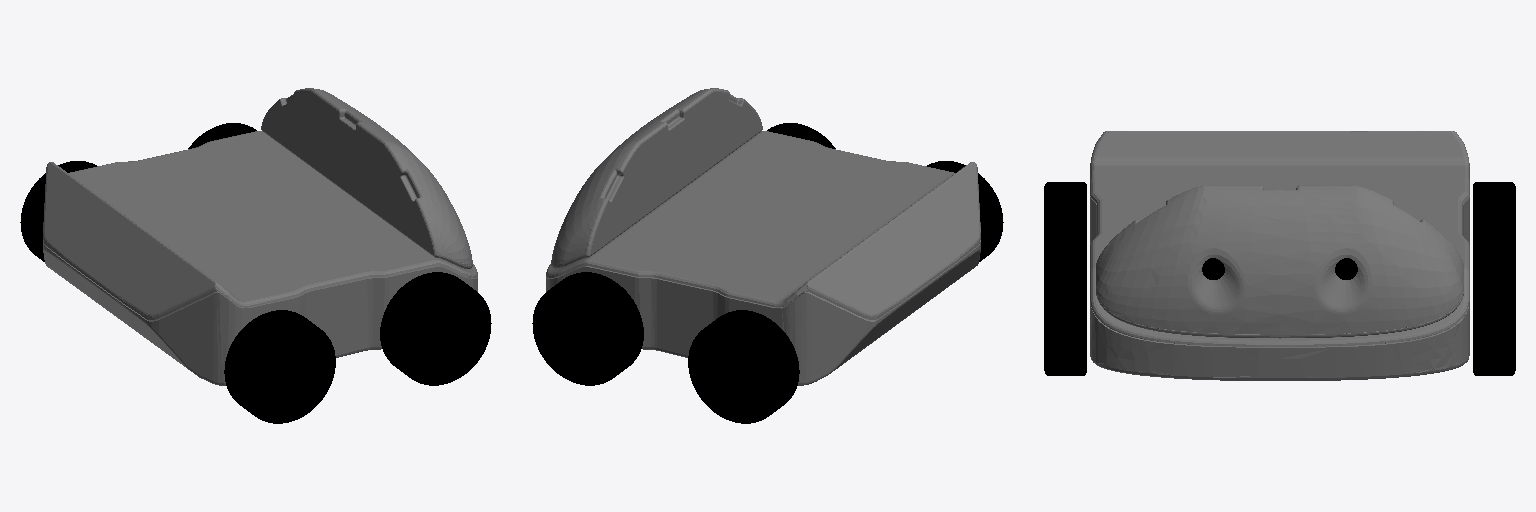
URDF robot description (up1):
<?xml version="1.0" ?>
<!-- =================================================================================== -->
<!-- |    This document was autogenerated by xacro from up1_left_arm.xacro             | -->
<!-- |    EDITING THIS FILE BY HAND IS NOT RECOMMENDED                                 | -->
<!-- =================================================================================== -->
<robot name="up1" xmlns:xacro="http://www.ros.org/wiki/xacro">
  <material name="black">
    <color rgba="0 0 0 1"/>
  </material>
  <material name="white">
    <color rgba="1 1 1 1"/>
  </material>
  <material name="red">
    <color rgba="1 0 0 1"/>
  </material>
  <material name="grey">
    <color rgba=".5 .5 .5 1"/>
  </material>
  <material name="green">
    <color rgba="0 1 0 1"/>
  </material>
  <material name="blue">
    <color rgba="0 0 1 1"/>
  </material>
  <material name="yellow">
    <color rgba="1 1 0 1"/>
  </material>
  <!-- ============================   Arm   ============================ -->
  <!-- ============================   Arm   ============================ -->
  <!-- ============================   Gripper   ============================ -->
  <!-- ============================   Gripper   ============================ -->
  <!-- ============================   Arm Module   ============================ -->
  <!-- ============================   Wheel   ============================ -->
  <!-- ============================   Base Module   ============================ -->
  <!-- ============================   Base Module   ============================ -->
  <!-- ============================   Camera   ============================ -->
  <!-- ============================   IO Module   ============================ -->
  <!-- base_footprint is a fictitious link(frame) that is on the ground right below base_link origin,
         navigation stack dedpends on this frame -->
  <link name="up1_footprint">
    <visual>
      <origin rpy="0 0 0" xyz="0 0 0"/>
      <geometry>
        <box size="0.01 0.01 0.01"/>
      </geometry>
      <material name="white"/>
    </visual>
    <collision>
      <!-- represent base collision with a simple rectangular model, positioned by base_size_z s.t. top
             surface of the collision box matches the top surface of the PR2 base -->
      <origin rpy="0 0 0" xyz="0 0 0.071"/>
      <geometry>
        <box size="0.001 0.001 0.001"/>
      </geometry>
    </collision>
  </link>
  <joint name="up1_footprint_joint" type="fixed">
    <origin rpy="0 0 0" xyz="0 0 0.051"/>
    <child link="base_link"/>
    <parent link="up1_footprint"/>
  </joint>
  <!-- Base Link -->
  <link name="base_link">
    <visual>
      <geometry>
        <mesh filename="package://up1_description/meshes/base.stl" scale="0.001 0.001 0.001"/>
      </geometry>
      <material name="grey"/>
    </visual>
    <collision>
      <geometry>
        <mesh filename="package://up1_description/meshes/base.stl" scale="0.001 0.001 0.001"/>
      </geometry>
    </collision>
    <inertial>
      <mass value="0.30813"/>
      <inertia ixx="0.00175941073" ixy="0.00000172768" ixz="-0.00008279443" iyy="0.00172024238" iyz="0.00000045789" izz="0.00311278092"/>
    </inertial>
  </link>
  <gazebo>
    <plugin filename="libgazebo_ros_skid_steer_drive.so" name="skid_steer_drive_controller">
      <updateRate>100.0</updateRate>
      <robotNamespace/>
      <leftFrontJoint>base_to_left_front_wheel</leftFrontJoint>
      <rightFrontJoint>base_to_right_front_wheel</rightFrontJoint>
      <leftRearJoint>base_to_left_back_wheel</leftRearJoint>
      <rightRearJoint>base_to_right_back_wheel</rightRearJoint>
      <wheelSeparation>0.2794</wheelSeparation>
      <wheelDiameter>0.0625</wheelDiameter>
      <robotBaseFrame>up1_footprint</robotBaseFrame>
      <torque>20</torque>
      <topicName>cmd_vel</topicName>
      <broadcastTF>false</broadcastTF>
    </plugin>
  </gazebo>
  <!-- Front Wheel Joint -->
  <joint name="base_to_right_front_wheel" type="continuous">
    <parent link="base_link"/>
    <child link="right_front_wheel"/>
    <origin rpy="1.570795 0 0" xyz="0.05569 -0.12922 -0.0211"/>
    <axis xyz="0 0 -1.0"/>
  </joint>
  <!-- Front Wheel Link -->
  <link name="right_front_wheel">
    <visual>
      <geometry>
        <mesh filename="package://up1_description/meshes/wheel.stl" scale="0.001 0.001 0.001"/>
      </geometry>
      <material name="black"/>
    </visual>
    <collision>
      <geometry>
        <mesh filename="package://up1_description/meshes/wheel.stl" scale="0.001 0.001 0.001"/>
      </geometry>
    </collision>
    <inertial>
      <mass value="0.01791"/>
      <inertia ixx="0.00000575118" ixy="-0.00000000224" ixz="0.0" iyy="0.00000575882" iyz="0.0" izz="0.0000094354"/>
    </inertial>
  </link>
  <!-- Back Wheel Joint -->
  <joint name="base_to_right_back_wheel" type="continuous">
    <parent link="base_link"/>
    <child link="right_back_wheel"/>
    <origin rpy="1.570795 0 0" xyz="-0.05883 -0.12922 -0.0211"/>
    <axis xyz="0 0 -1.0"/>
  </joint>
  <!-- Back Wheel Link -->
  <link name="right_back_wheel">
    <visual>
      <geometry>
        <mesh filename="package://up1_description/meshes/wheel.stl" scale="0.001 0.001 0.001"/>
      </geometry>
      <material name="black"/>
    </visual>
    <collision>
      <geometry>
        <mesh filename="package://up1_description/meshes/wheel.stl" scale="0.001 0.001 0.001"/>
      </geometry>
    </collision>
    <inertial>
      <mass value="0.01791"/>
      <inertia ixx="0.00000575118" ixy="-0.00000000224" ixz="0.0" iyy="0.00000575882" iyz="0.0" izz="0.0000094354"/>
    </inertial>
  </link>
  <!-- Front Wheel Joint -->
  <joint name="base_to_left_front_wheel" type="continuous">
    <parent link="base_link"/>
    <child link="left_front_wheel"/>
    <origin rpy="-1.570795 0 0" xyz="0.05569 0.12922 -0.0211"/>
    <axis xyz="0 0 1.0"/>
  </joint>
  <!-- Front Wheel Link -->
  <link name="left_front_wheel">
    <visual>
      <geometry>
        <mesh filename="package://up1_description/meshes/wheel.stl" scale="0.001 0.001 0.001"/>
      </geometry>
      <material name="black"/>
    </visual>
    <collision>
      <geometry>
        <mesh filename="package://up1_description/meshes/wheel.stl" scale="0.001 0.001 0.001"/>
      </geometry>
    </collision>
    <inertial>
      <mass value="0.01791"/>
      <inertia ixx="0.00000575118" ixy="-0.00000000224" ixz="0.0" iyy="0.00000575882" iyz="0.0" izz="0.0000094354"/>
    </inertial>
  </link>
  <!-- Back Wheel Joint -->
  <joint name="base_to_left_back_wheel" type="continuous">
    <parent link="base_link"/>
    <child link="left_back_wheel"/>
    <origin rpy="-1.570795 0 0" xyz="-0.05883 0.12922 -0.0211"/>
    <axis xyz="0 0 1.0"/>
  </joint>
  <!-- Back Wheel Link -->
  <link name="left_back_wheel">
    <visual>
      <geometry>
        <mesh filename="package://up1_description/meshes/wheel.stl" scale="0.001 0.001 0.001"/>
      </geometry>
      <material name="black"/>
    </visual>
    <collision>
      <geometry>
        <mesh filename="package://up1_description/meshes/wheel.stl" scale="0.001 0.001 0.001"/>
      </geometry>
    </collision>
    <inertial>
      <mass value="0.01791"/>
      <inertia ixx="0.00000575118" ixy="-0.00000000224" ixz="0.0" iyy="0.00000575882" iyz="0.0" izz="0.0000094354"/>
    </inertial>
  </link>
  <!-- IO Joint -->
  <joint name="base_to_io" type="fixed">
    <parent link="base_link"/>
    <child link="io_link"/>
    <origin xyz="0.09136 0 0.03356"/>
  </joint>
  <!-- IO Link -->
  <link name="io_link">
    <visual>
      <geometry>
        <mesh filename="package://up1_description/meshes/io.stl" scale="0.001 0.001 0.001"/>
      </geometry>
      <material name="grey"/>
    </visual>
    <collision>
      <geometry>
        <mesh filename="package://up1_description/meshes/io.stl" scale="0.001 0.001 0.001"/>
      </geometry>
    </collision>
    <inertial>
      <mass value="0.09799"/>
      <inertia ixx="0.00036946993" ixy="0.00000010944" ixz="-0.00001523298" iyy="0.00007193675" iyz="0.00000030515" izz="0.00034948153"/>
    </inertial>
  </link>
  <gazebo>
      
    </gazebo>
  <!-- Camera Joint -->
  <joint name="io_to_right_camera" type="fixed">
    <parent link="io_link"/>
    <child link="right_camera"/>
    <origin xyz="-0.01219 -0.04027 0.00023"/>
  </joint>
  <!-- Camera Link -->
  <link name="right_camera">
    <visual>
      <geometry>
        <mesh filename="package://up1_description/meshes/camera.stl" scale="0.001 0.001 0.001"/>
      </geometry>
      <material name="black"/>
    </visual>
    <collision>
      <geometry>
        <mesh filename="package://up1_description/meshes/camera.stl" scale="0.001 0.001 0.001"/>
      </geometry>
    </collision>
    <inertial>
      <mass value="0.00488"/>
      <inertia ixx="0.00000029098" ixy="0.0" ixz="0.0" iyy="0.00000085538" iyz="0.0" izz="0.00000085538"/>
    </inertial>
  </link>
  <!-- Camera Joint -->
  <joint name="io_to_left_camera" type="fixed">
    <parent link="io_link"/>
    <child link="left_camera"/>
    <origin xyz="-0.01219 0.04027 0.00023"/>
  </joint>
  <!-- Camera Link -->
  <link name="left_camera">
    <visual>
      <geometry>
        <mesh filename="package://up1_description/meshes/camera.stl" scale="0.001 0.001 0.001"/>
      </geometry>
      <material name="black"/>
    </visual>
    <collision>
      <geometry>
        <mesh filename="package://up1_description/meshes/camera.stl" scale="0.001 0.001 0.001"/>
      </geometry>
    </collision>
    <inertial>
      <mass value="0.00488"/>
      <inertia ixx="0.00000029098" ixy="0.0" ixz="0.0" iyy="0.00000085538" iyz="0.0" izz="0.00000085538"/>
    </inertial>
  </link>
  <!-- Armroot Joint -->
  <joint name="base_to_armroot" type="fixed">
    <parent link="base_link"/>
    <child link="armroot_link"/>
    <origin xyz="-0.01247 0 0.05187"/>
  </joint>
  <!-- Armroot Link -->
  <link name="armroot_link">
    <visual>
      <geometry>
        <mesh filename="package://up1_description/meshes/armroot.stl" scale="0.001 0.001 0.001"/>
      </geometry>
      <material name="grey"/>
    </visual>
    <collision>
      <geometry>
        <mesh filename="package://up1_description/meshes/armroot.stl" scale="0.001 0.001 0.001"/>
      </geometry>
    </collision>
    <inertial>
      <mass value="0.20657"/>
      <inertia ixx="0.00096240277" ixy="-0.00000350376" ixz="0.00002354169" iyy="0.00057897825" iyz="0.00000127419" izz="0.00134814249"/>
    </inertial>
  </link>
  <!-- Arm Joint 1 -->
  <joint name="left_armroot_to_armlink1" type="revolute">
    <parent link="armroot_link"/>
    <child link="left_armlink1"/>
    <origin rpy="0.523598333333 3.14159 0" xyz="0.01777 0.07385 0.01853"/>
    <axis xyz="0 0 1"/>
    <limit effort="6.0" lower="-1.570795" upper="1.570795" velocity="1"/>
  </joint>
  <!-- Arm Link 1 -->
  <link name="left_armlink1">
    <visual>
      <geometry>
        <mesh filename="package://up1_description/meshes/armlink1.stl" scale="0.001 0.001 0.001"/>
      </geometry>
      <material name="white"/>
    </visual>
    <collision>
      <geometry>
        <mesh filename="package://up1_description/meshes/armlink1.stl" scale="0.001 0.001 0.001"/>
      </geometry>
    </collision>
    <inertial>
      <mass value="0.06985"/>
      <inertia ixx="0.00023448766" ixy="0.0000000027" ixz="0.00000001913" iyy="0.00024004726" iyz="-0.0000015393" izz="0.00007431363"/>
    </inertial>
  </link>
  <!-- Arm Joint 2 -->
  <joint name="left_armlink1_to_armlink2" type="revolute">
    <parent link="left_armlink1"/>
    <child link="left_armlink2"/>
    <origin rpy="1.570795 3.14159 0" xyz="0 0 -0.07038"/>
    <axis xyz="0 0 -1.0"/>
    <limit effort="6.0" lower="-1.570795" upper="1.570795" velocity="1"/>
  </joint>
  <!-- Arm Link 2 -->
  <link name="left_armlink2">
    <visual>
      <geometry>
        <mesh filename="package://up1_description/meshes/armlink2.stl" scale="0.001 0.001 0.001"/>
      </geometry>
      <material name="white"/>
    </visual>
    <collision>
      <geometry>
        <mesh filename="package://up1_description/meshes/armlink2.stl" scale="0.001 0.001 0.001"/>
      </geometry>
    </collision>
    <inertial>
      <mass value="0.07067"/>
      <inertia ixx="0.00029708797" ixy="-0.00000000444" ixz="0.00000000068" iyy="0.0000799845" iyz="-0.00000174097" izz="0.00026073683"/>
    </inertial>
  </link>
  <!-- Arm Joint 3 -->
  <joint name="left_armlink2_to_armlink3" type="revolute">
    <parent link="left_armlink2"/>
    <child link="left_armlink3"/>
    <origin rpy="-1.570795 3.14159 0" xyz="0 0.09602 0"/>
    <axis xyz="0 0 -1"/>
    <limit effort="6.0" lower="-1.570795" upper="1.570795" velocity="1"/>
  </joint>
  <!-- Arm Link 3 -->
  <link name="left_armlink3">
    <visual>
      <geometry>
        <mesh filename="package://up1_description/meshes/armlink3.stl" scale="0.001 0.001 0.001"/>
      </geometry>
      <material name="white"/>
    </visual>
    <collision>
      <geometry>
        <mesh filename="package://up1_description/meshes/armlink3.stl" scale="0.001 0.001 0.001"/>
      </geometry>
    </collision>
    <inertial>
      <mass value="0.04828"/>
      <inertia ixx="0.00010408822" ixy="0.00000002684" ixz="0.00000006554" iyy="0.00008358122" iyz="0.00000001571" izz="0.00004453887"/>
    </inertial>
  </link>
  <!-- Arm Joint 4 -->
  <joint name="left_armlink3_to_armlink4" type="revolute">
    <parent link="left_armlink3"/>
    <child link="left_armlink4"/>
    <origin rpy="1.570795 0 0" xyz="0 0 0.05588"/>
    <axis xyz="0 0 -1.0"/>
    <limit effort="6.0" lower="-1.570795" upper="1.570795" velocity="1"/>
  </joint>
  <!-- Arm Link 4 -->
  <link name="left_armlink4">
    <visual>
      <geometry>
        <mesh filename="package://up1_description/meshes/armlink4.stl" scale="0.001 0.001 0.001"/>
      </geometry>
      <material name="white"/>
    </visual>
    <collision>
      <geometry>
        <mesh filename="package://up1_description/meshes/armlink4.stl" scale="0.001 0.001 0.001"/>
      </geometry>
    </collision>
    <inertial>
      <mass value="0.07021"/>
      <inertia ixx="0.00022365714" ixy="0.00000581335" ixz="-0.00000002583" iyy="0.00004497277" iyz="0.00000036702" izz="0.00022294807"/>
    </inertial>
  </link>
  <!-- Arm Joint 5 -->
  <joint name="left_armlink4_to_armlink5" type="revolute">
    <parent link="left_armlink4"/>
    <child link="left_armlink5"/>
    <origin rpy="0 1.570795 0" xyz="0 0.07641 0"/>
    <axis xyz="0 0 1.0"/>
    <limit effort="6.0" lower="-1.570795" upper="1.570795" velocity="1"/>
  </joint>
  <!-- Arm Link 5 -->
  <link name="left_armlink5">
    <visual>
      <geometry>
        <mesh filename="package://up1_description/meshes/armlink5.stl" scale="0.001 0.001 0.001"/>
      </geometry>
      <material name="white"/>
    </visual>
    <collision>
      <geometry>
        <mesh filename="package://up1_description/meshes/armlink5.stl" scale="0.001 0.001 0.001"/>
      </geometry>
    </collision>
    <inertial>
      <mass value="0.07134"/>
      <inertia ixx="0.00024486788" ixy="-0.00000179765" ixz="-0.0000013121" iyy="0.00007141374" iyz="0.00000015595" izz="0.0002397239"/>
    </inertial>
  </link>
  <!-- Gripper Joint -->
  <joint name="left_gripper" type="fixed">
    <parent link="left_armlink5"/>
    <child link="left_gripper"/>
    <origin rpy="0 0 0" xyz="0 0.138 0"/>
  </joint>
  <!-- Gripper -->
  <link name="left_gripper"/>
  <gazebo reference="left_armlink1">
    <turnGravityOff>true</turnGravityOff>
  </gazebo>
  <gazebo reference="left_armlink2">
    <turnGravityOff>true</turnGravityOff>
  </gazebo>
  <gazebo reference="left_armlink3">
    <turnGravityOff>true</turnGravityOff>
  </gazebo>
  <gazebo reference="left_armlink4">
    <turnGravityOff>true</turnGravityOff>
  </gazebo>
  <gazebo reference="left_armlink5">
    <turnGravityOff>true</turnGravityOff>
  </gazebo>
  <!-- Finger Joint 1 -->
  <joint name="left_gripper_joint" type="prismatic">
    <parent link="left_armlink5"/>
    <child link="left_finger1"/>
    <origin rpy="0 1.570795 0" xyz="-0.018 0.08121 0"/>
    <axis xyz="0 0 1"/>
    <limit effort="6.0" lower="0" upper="0.018" velocity="1"/>
  </joint>
  <!-- Finger Link 1 -->
  <link name="left_finger1">
    <visual>
      <geometry>
        <mesh filename="package://up1_description/meshes/finger.stl" scale="0.001 0.001 0.001"/>
      </geometry>
      <material name="grey"/>
    </visual>
    <collision>
      <geometry>
        <mesh filename="package://up1_description/meshes/finger.stl" scale="0.001 0.001 0.001"/>
      </geometry>
    </collision>
    <inertial>
      <mass value="0.01174"/>
      <inertia ixx="0.00000285949" ixy="-0.00000001641" ixz="0.00000001803" iyy="0.00000203198" iyz="-0.00000077289" izz="0.00000299021"/>
    </inertial>
  </link>
  <!-- Finger Joint 2 -->
  <joint name="left_gripper_joint_fake" type="prismatic">
    <parent link="left_armlink5"/>
    <child link="left_finger2"/>
    <origin rpy="0 -1.570795 0" xyz="0.018 0.08121 0"/>
    <axis xyz="0 0 1"/>
    <limit effort="6.0" lower="0" upper="0.018" velocity="1"/>
    <mimic joint="left_gripper_joint" multiplier="1" offset="0"/>
  </joint>
  <!-- Finger Link 2 -->
  <link name="left_finger2">
    <visual>
      <geometry>
        <mesh filename="package://up1_description/meshes/finger.stl" scale="0.001 0.001 0.001"/>
      </geometry>
      <material name="grey"/>
    </visual>
    <collision>
      <geometry>
        <mesh filename="package://up1_description/meshes/finger.stl" scale="0.001 0.001 0.001"/>
      </geometry>
    </collision>
    <inertial>
      <mass value="0.01174"/>
      <inertia ixx="0.00000285949" ixy="-0.00000001641" ixz="0.00000001803" iyy="0.00000203198" iyz="-0.00000077289" izz="0.00000299021"/>
    </inertial>
  </link>
  <gazebo reference="left_finger1">
    <turnGravityOff>true</turnGravityOff>
  </gazebo>
  <gazebo reference="left_finger2">
    <turnGravityOff>true</turnGravityOff>
  </gazebo>
</robot>

--- Facts derived from the render (not from the file) ---
Views: 3 orthographic renders of the robot side by side, from view 1: azimuth 30°, elevation 25°; view 2: azimuth 150°, elevation 25°; view 3: azimuth 270°, elevation 25°.
Robot: up1 — 18 links, 17 joints (5 revolute, 4 continuous, 2 prismatic, 6 fixed); root link up1_footprint; default pose: every joint at zero.
Visible links, largest first — view 1: base_link, io_link, right_back_wheel, right_front_wheel, left_back_wheel, left_front_wheel; view 2: base_link, io_link, left_back_wheel, left_front_wheel, right_back_wheel, right_front_wheel; view 3: io_link, base_link, right_front_wheel, left_front_wheel, right_back_wheel, left_back_wheel.
Link boxes in pixels (left/top/right/bottom): base_link: left=43, top=131, right=477, bottom=385; io_link: left=261, top=88, right=472, bottom=268; right_back_wheel: left=224, top=310, right=335, bottom=423; right_front_wheel: left=380, top=272, right=491, bottom=385; left_back_wheel: left=20, top=161, right=96, bottom=261; left_front_wheel: left=188, top=123, right=256, bottom=148; base_link: left=546, top=131, right=980, bottom=385; io_link: left=551, top=88, right=762, bottom=268; left_back_wheel: left=688, top=310, right=799, bottom=423; left_front_wheel: left=532, top=272, right=643, bottom=385; right_back_wheel: left=927, top=161, right=1003, bottom=261; right_front_wheel: left=767, top=123, right=835, bottom=148; io_link: left=1096, top=185, right=1463, bottom=338; base_link: left=1090, top=131, right=1469, bottom=380; right_front_wheel: left=1044, top=261, right=1086, bottom=375; left_front_wheel: left=1473, top=261, right=1515, bottom=375; right_back_wheel: left=1044, top=182, right=1086, bottom=265; left_back_wheel: left=1473, top=182, right=1515, bottom=265.
Size in the robot's own frame: 0.2399 by 0.2856 by 0.1296 metres.
8 mesh visuals loaded from 11 distinct referenced files (4 binary STL); not drawn: 8 (file found but could not be loaded).